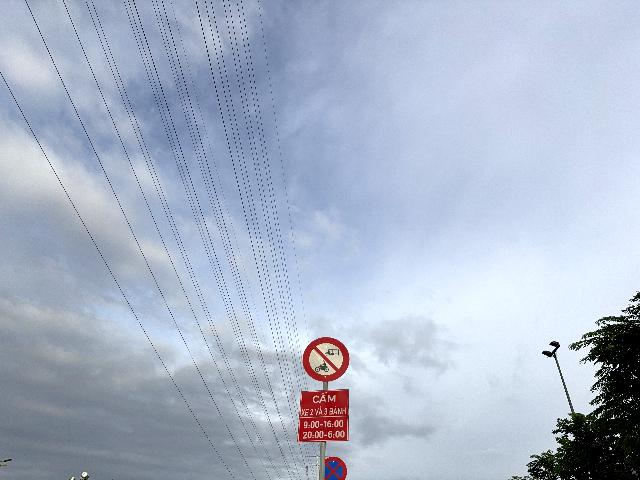cam-dung-va-do-xe: (325, 456, 347, 480)
cam-xe-2-banh-3-banh: (301, 336, 350, 382)
